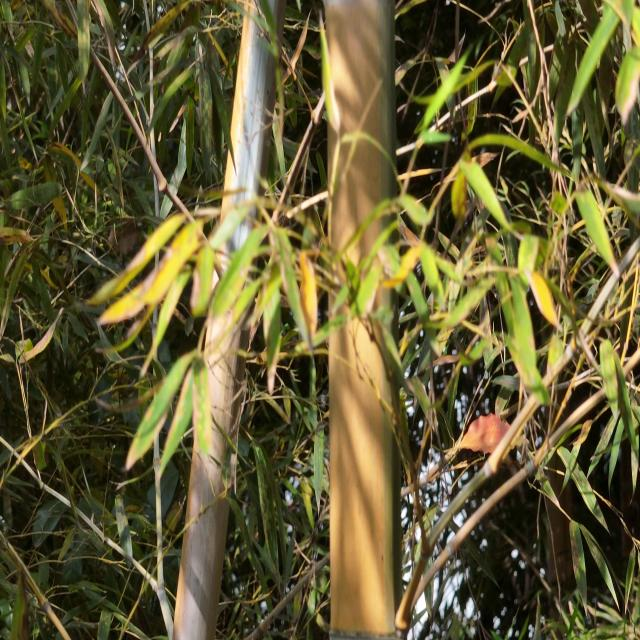Bamboo-shoots: (172, 0, 287, 640)
